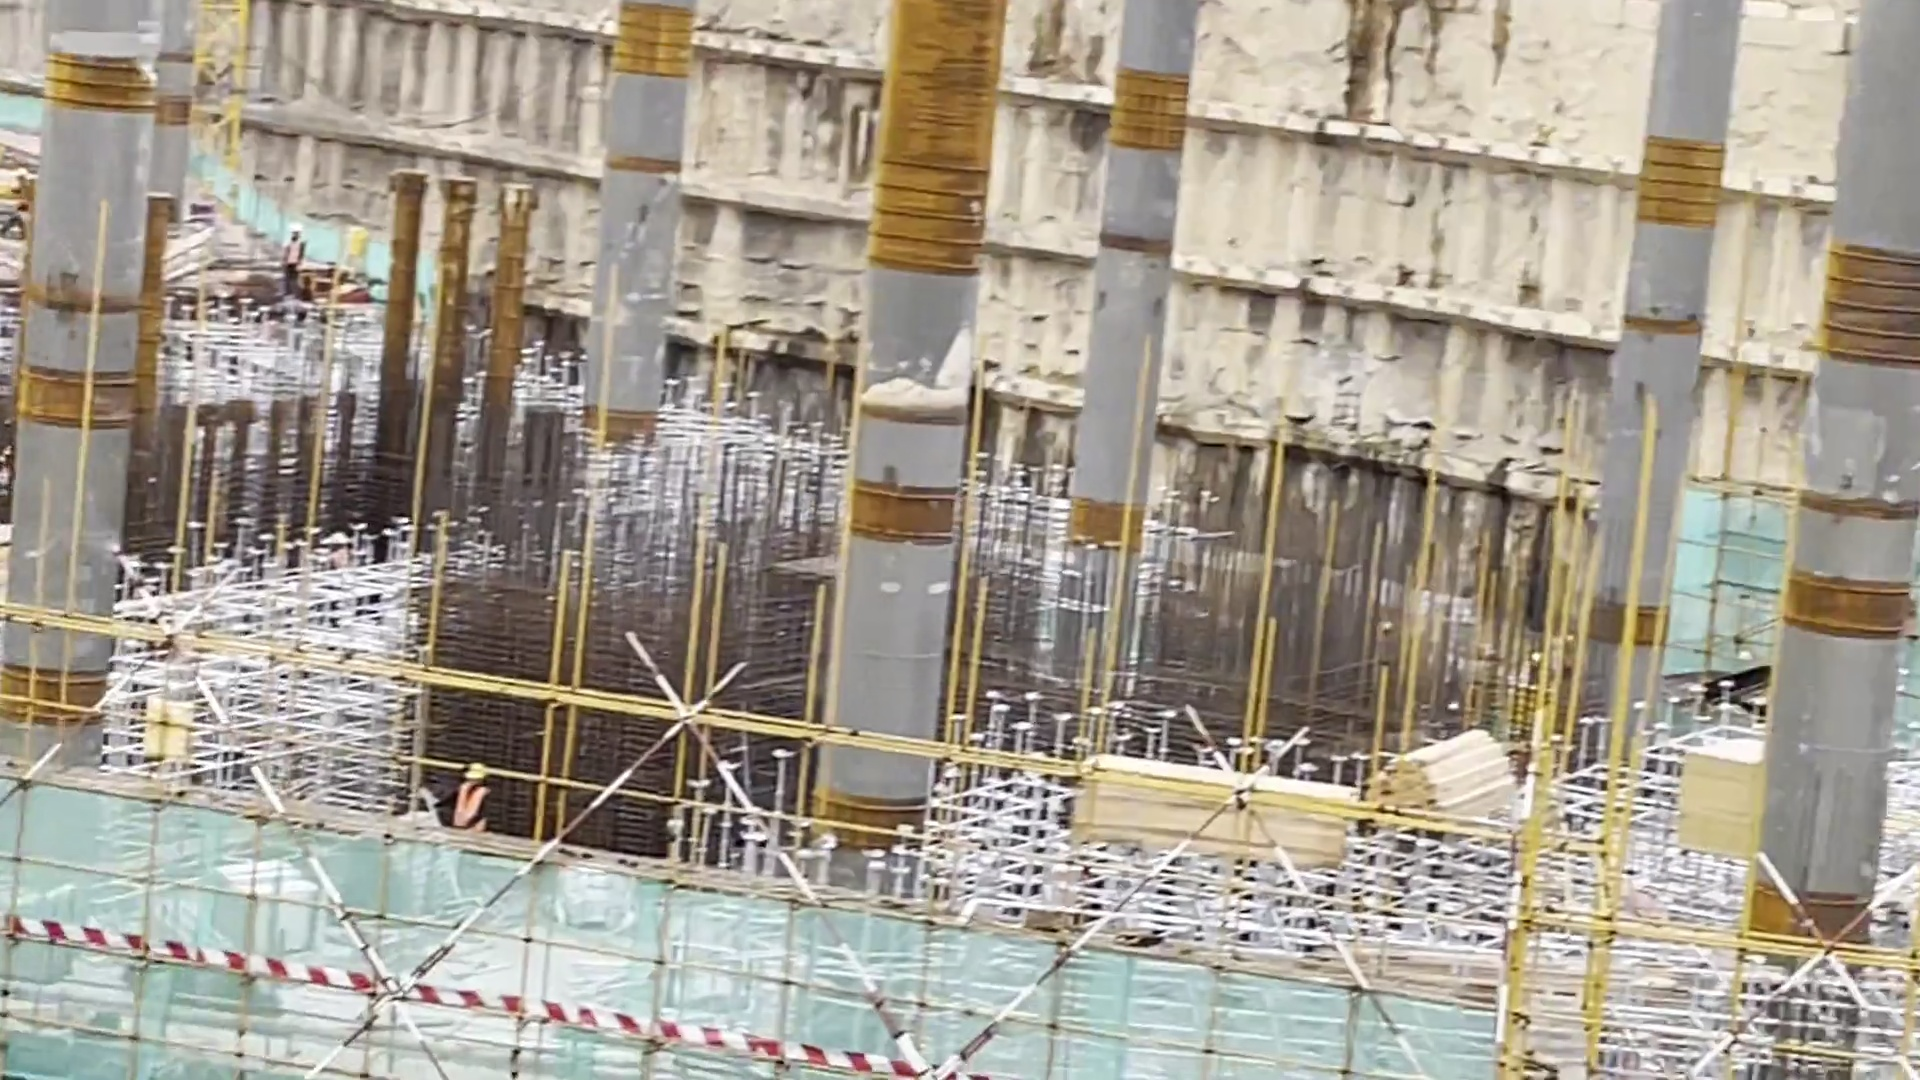helmet: (464, 760, 491, 785)
person: (437, 753, 493, 839)
vest: (450, 782, 494, 838)
wood: (1060, 746, 1359, 863), (1355, 734, 1523, 829), (1680, 741, 1765, 880)
